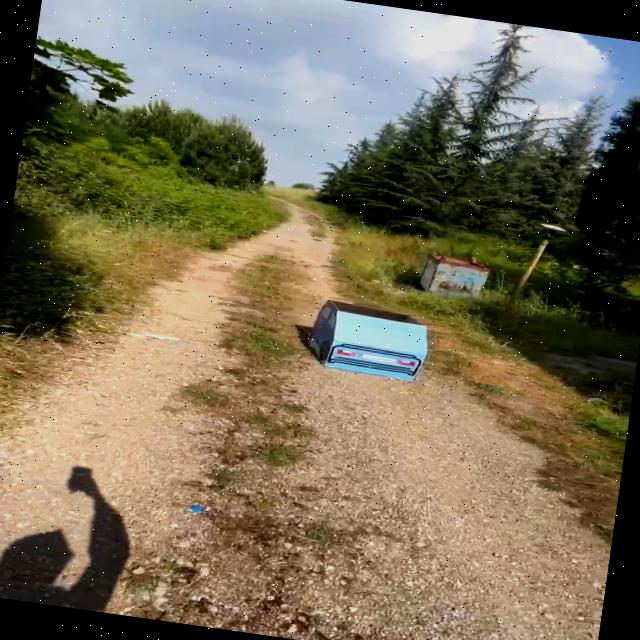blue_car: (281, 282, 449, 391)
